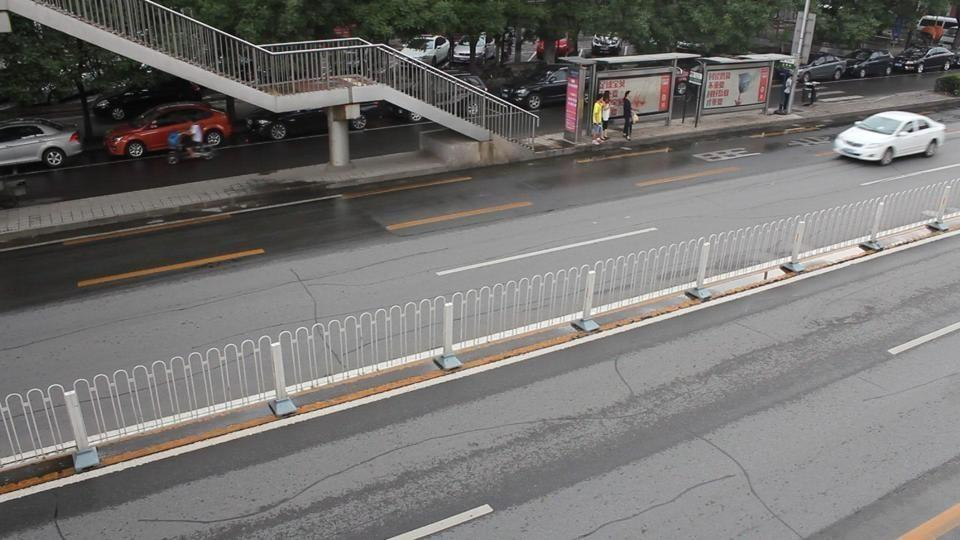car: (103, 102, 231, 160), (199, 93, 329, 146), (832, 110, 946, 165), (0, 119, 83, 171), (495, 66, 577, 110), (93, 87, 179, 121), (401, 34, 451, 68), (838, 51, 893, 80), (907, 46, 960, 74), (796, 54, 847, 82)
